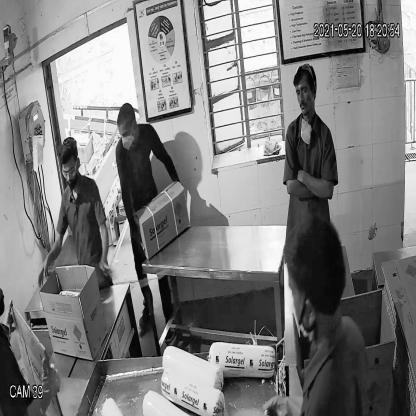goggles: (59, 164, 78, 180)
no_goggles: (293, 82, 313, 100)
